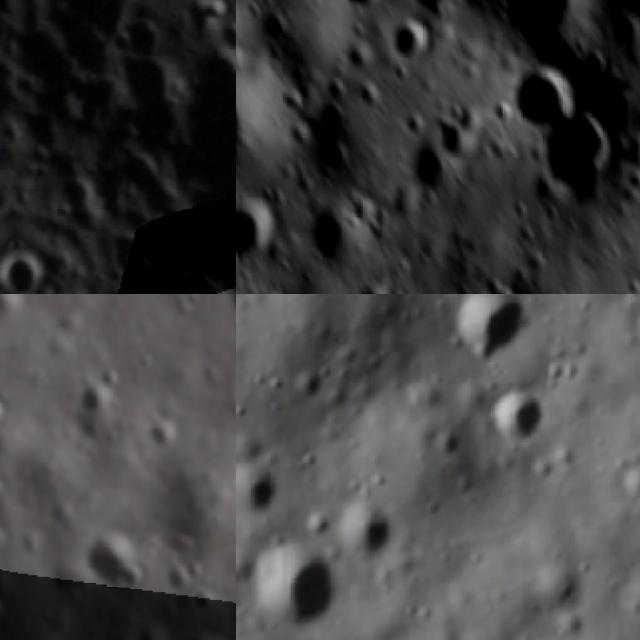crater: (532, 112, 627, 206), (245, 544, 334, 640), (72, 518, 158, 602), (503, 62, 583, 132), (485, 0, 604, 47), (453, 294, 519, 373), (236, 50, 271, 176), (401, 132, 458, 208), (431, 100, 489, 170), (236, 193, 281, 280), (301, 200, 358, 264), (377, 11, 433, 69), (340, 504, 400, 558), (76, 374, 125, 423), (238, 463, 283, 514), (491, 397, 539, 443), (146, 412, 187, 455), (158, 520, 202, 557), (402, 0, 468, 23), (0, 294, 31, 336), (165, 622, 236, 640), (200, 253, 233, 288), (0, 387, 23, 436), (434, 427, 464, 458), (475, 273, 518, 294), (352, 272, 392, 294), (213, 18, 236, 55), (180, 556, 210, 584), (193, 587, 219, 614), (622, 467, 640, 503), (337, 0, 378, 15), (0, 468, 15, 505), (0, 585, 11, 628), (255, 287, 287, 294)
